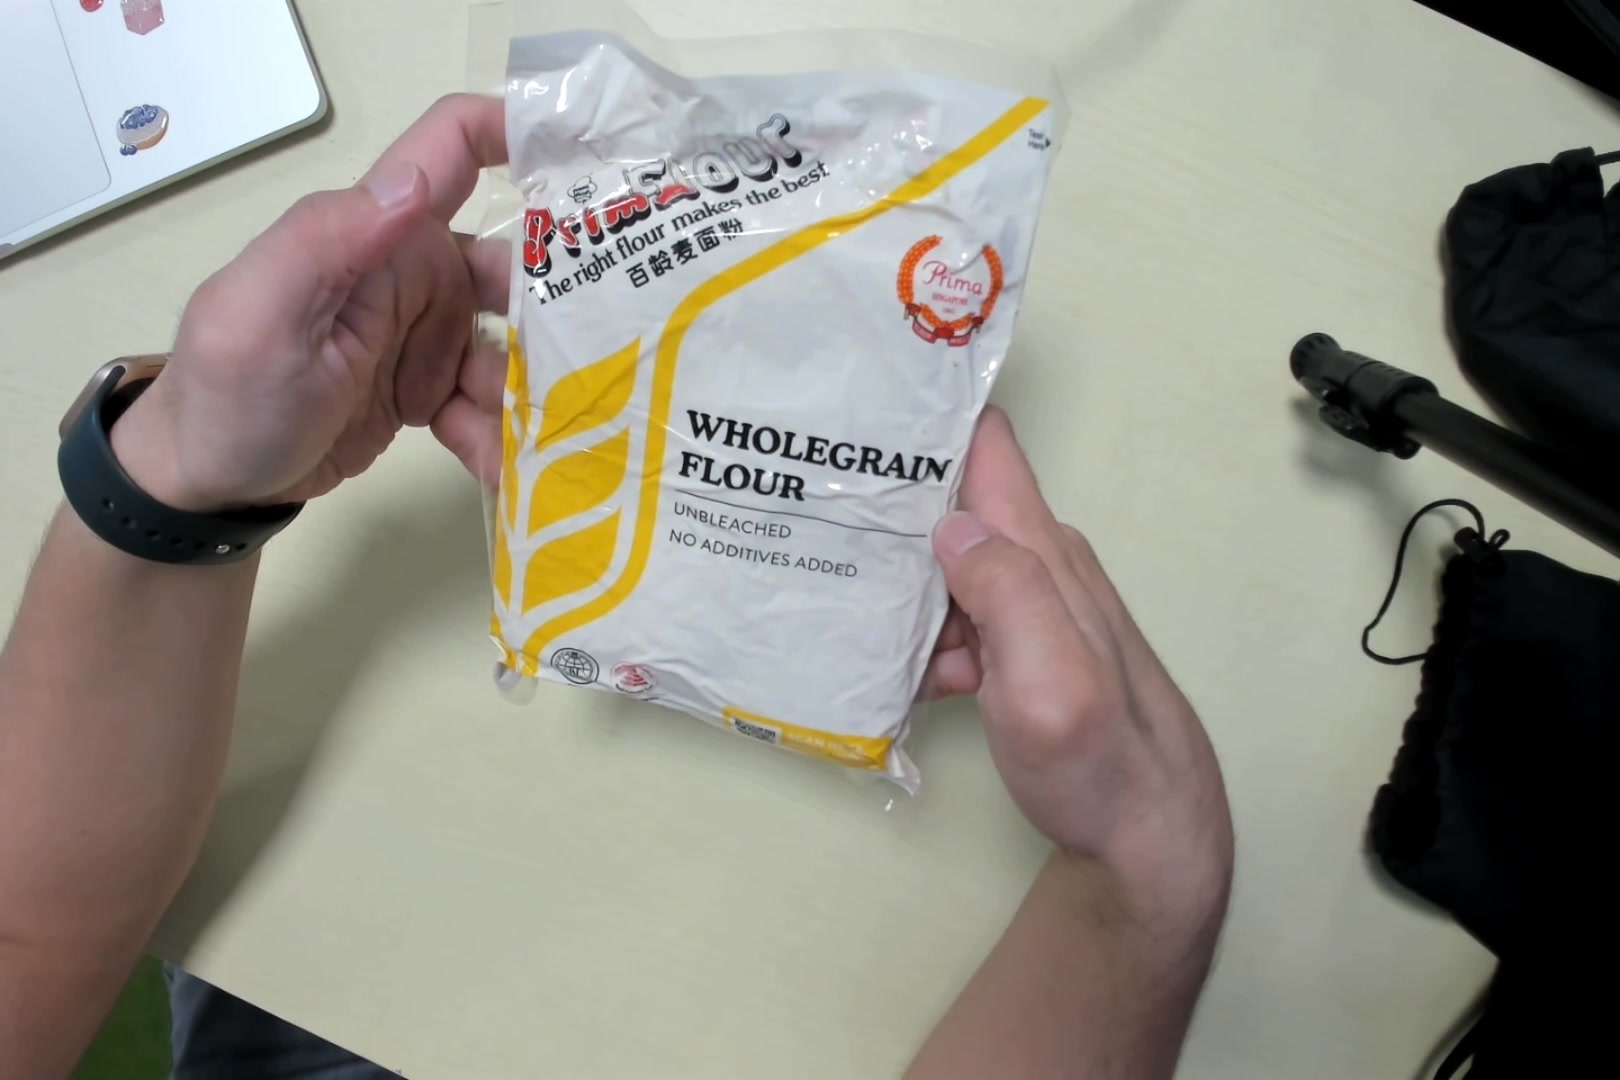OtherBakingNeeds_400-499g_Halal_NonHealthy: (474, 12, 1052, 792)
